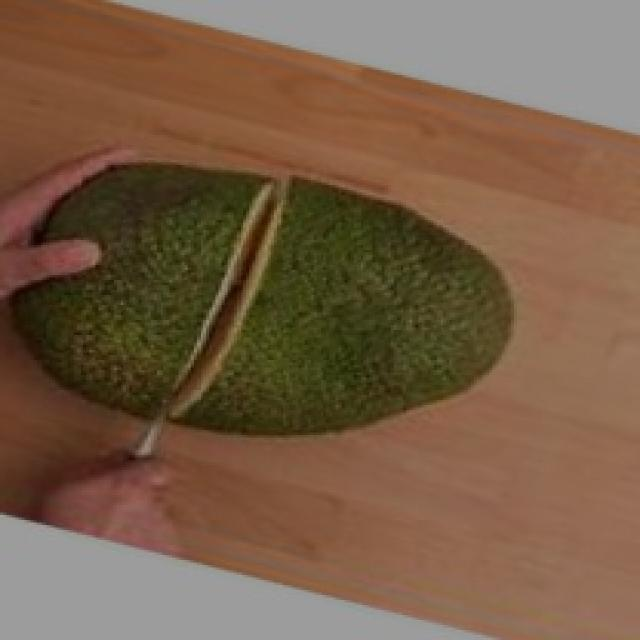Fruit: (151, 165, 538, 470)
